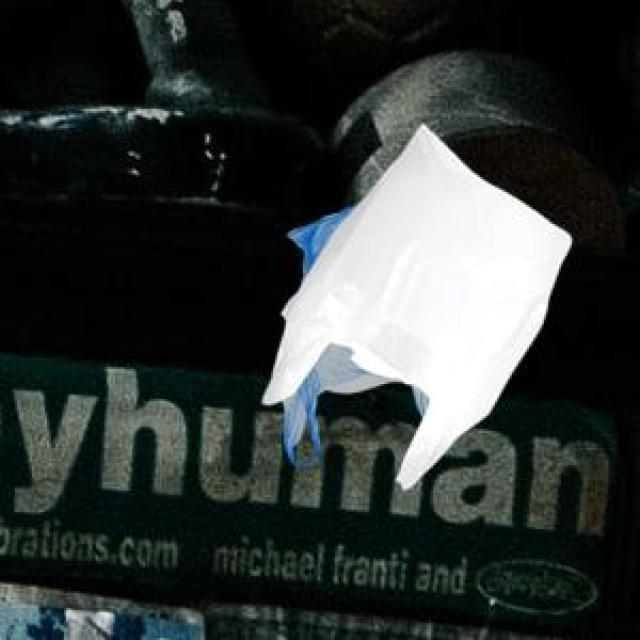Plastic_Bag: (259, 122, 569, 486), (278, 203, 428, 460)
